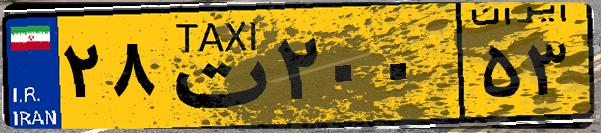0: (385, 28, 445, 110), (330, 28, 385, 110)
2: (270, 28, 330, 110), (57, 26, 110, 100)
3: (525, 38, 570, 115)
5: (475, 38, 525, 113)
8: (110, 28, 158, 98)
ت: (158, 12, 270, 120)
